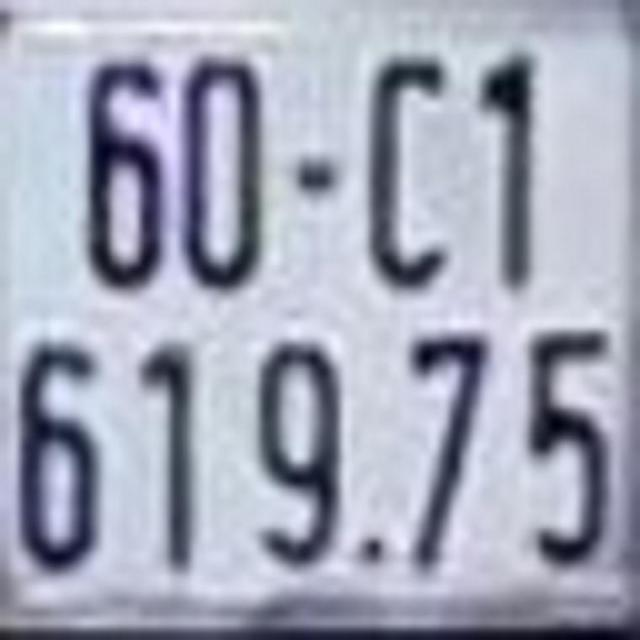0: (180, 50, 263, 284)
1: (473, 51, 538, 286), (137, 338, 200, 562)
5: (530, 319, 610, 572)
6: (21, 340, 103, 564), (86, 59, 164, 279)
7: (408, 330, 491, 568)
9: (256, 338, 342, 569)
C: (368, 54, 451, 284)
